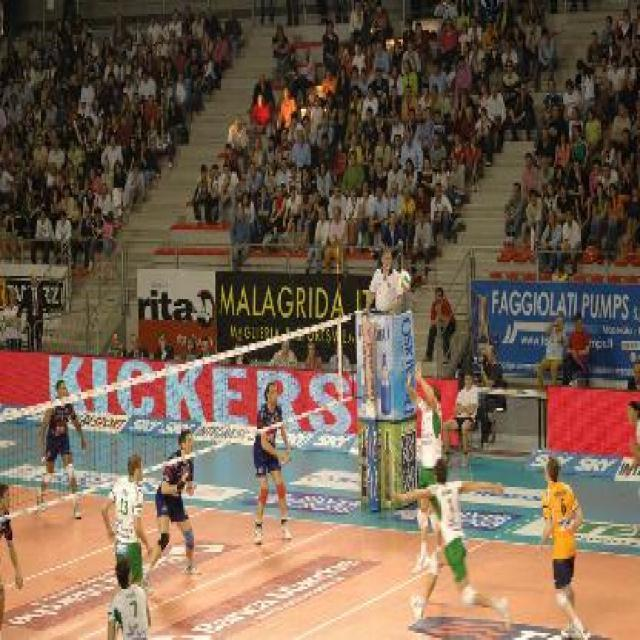volleyball: (396, 270, 412, 292)
